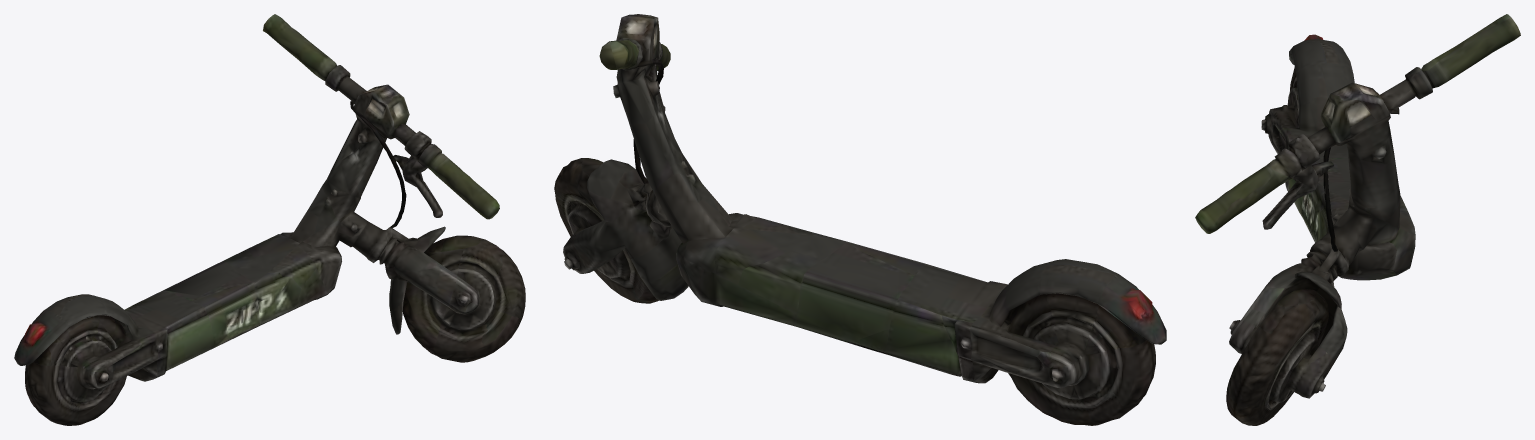
The model's file is veh-j-scooter.glb.
3 renders of one model, left to right at view 1: azimuth 30°, elevation 25°; view 2: azimuth 150°, elevation 25°; view 3: azimuth 270°, elevation 25°, orthographic. The views are drawn at different scales.
Parts seen in each view (by area): view 1: tripo_node_10898598-1c6e-4e68-bb16-960637f2f58c; view 2: tripo_node_10898598-1c6e-4e68-bb16-960637f2f58c; view 3: tripo_node_10898598-1c6e-4e68-bb16-960637f2f58c.
Boxes of the visible parts, box(x1,y1,x2,y2) form: tripo_node_10898598-1c6e-4e68-bb16-960637f2f58c: box(14, 14, 525, 425); tripo_node_10898598-1c6e-4e68-bb16-960637f2f58c: box(554, 14, 1166, 425); tripo_node_10898598-1c6e-4e68-bb16-960637f2f58c: box(1195, 14, 1520, 425).
Size of the model in its own units: 0.9788 by 0.566 by 0.4736.
Materials: 1 (1 with a texture image).
